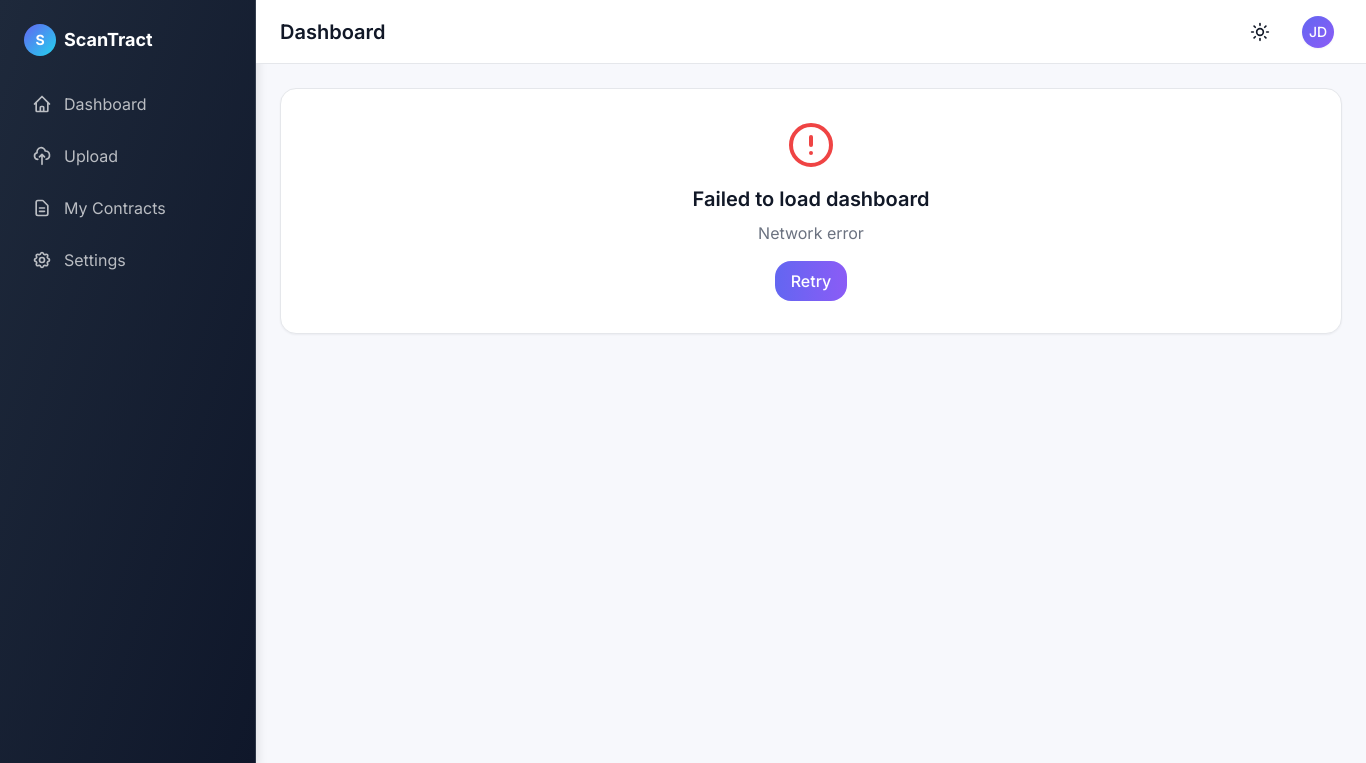
Test case: DashboardPage › retries loading when retry button clicked
Expected: the heading "Failed to load dashboard" is shown, [692, 187, 929, 211]
Click retry
Click the button "Retry" at [811, 281], box [775, 261, 847, 301]
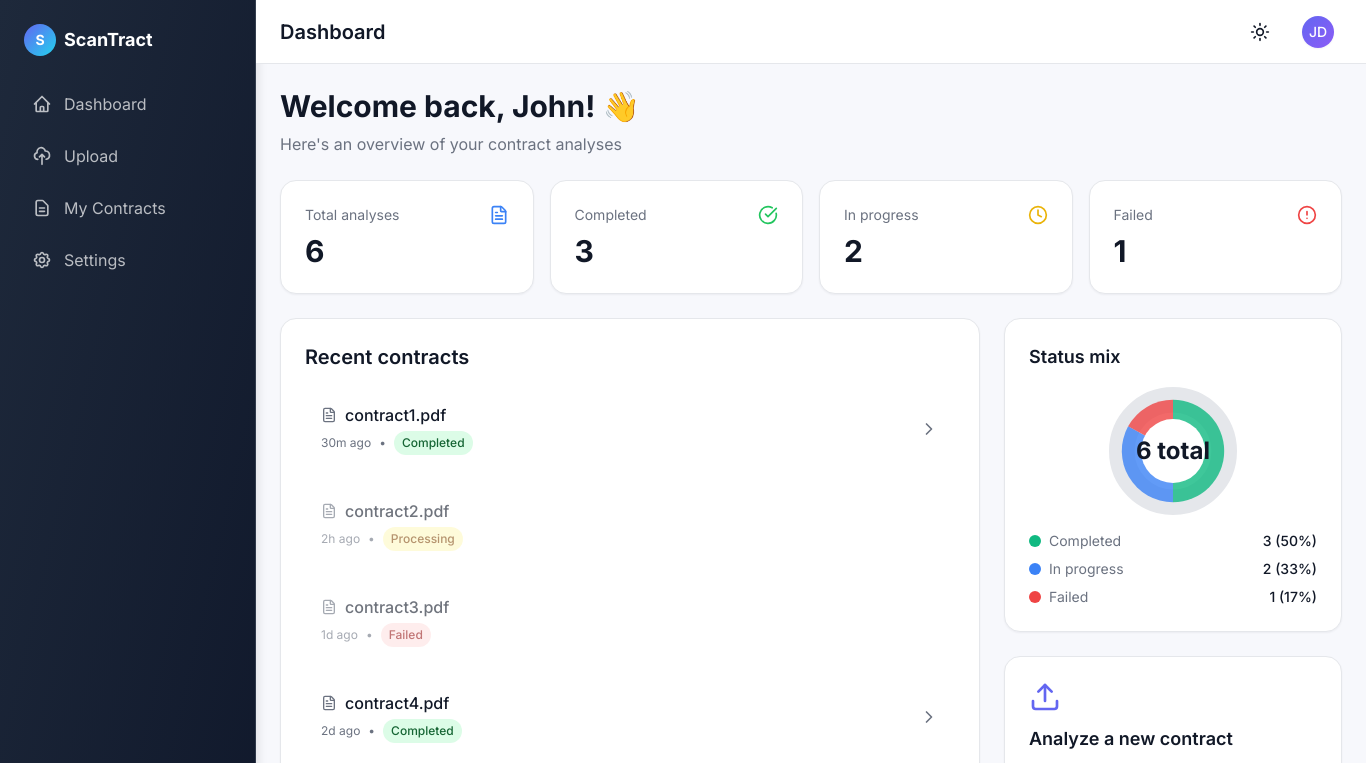
Now the text "contract1.pdf" is shown, box [345, 403, 446, 427]
